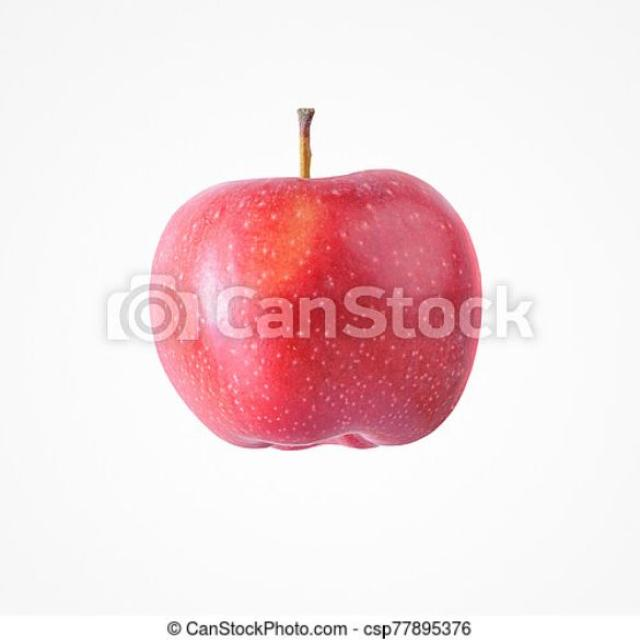Healty Apple: (136, 157, 497, 469)
